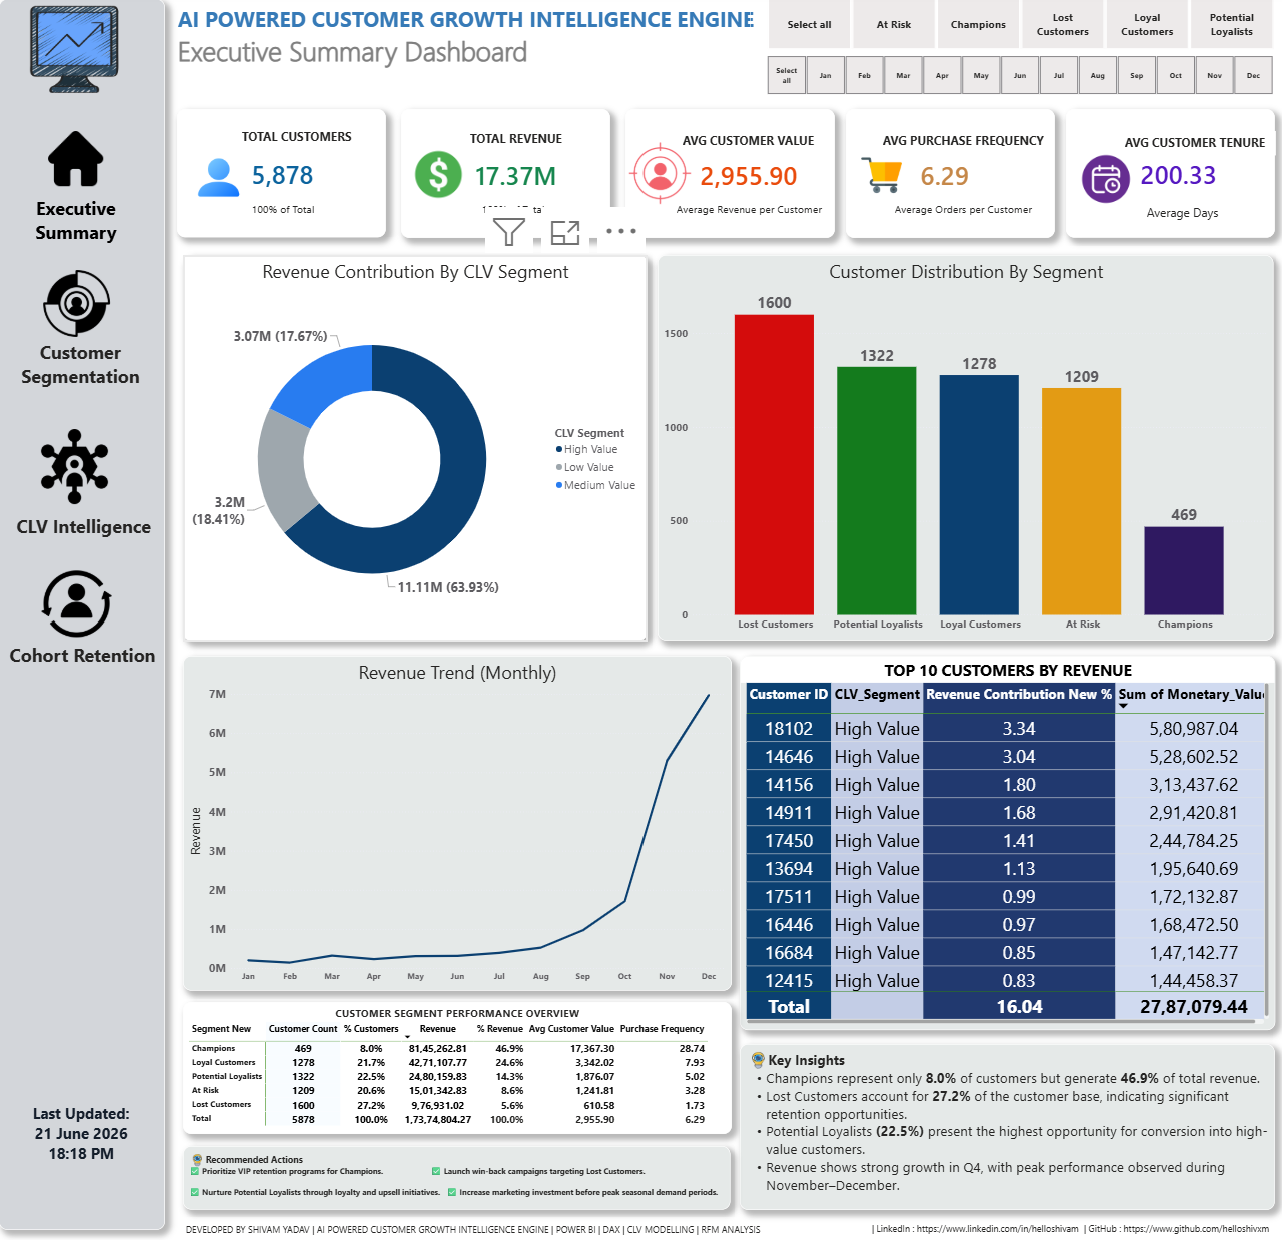

This screenshot's page, from the dashboard's own definition file:
{"tool":"powerbi","page":{"name":"Executive Summary","canvas":[2330,2230],"ordinal":0},"visuals":[{"type":"textbox","box":[12,16,296,2194],"z":0},{"type":"image","box":[88,249.9,116.2,98.6],"z":1000},{"type":"textbox","box":[49.3,360.6,195.8,100],"z":2000},{"type":"image","box":[73.9,496.3,147.8,123.2],"z":3000},{"type":"textbox","box":[40,616.7,233.3,116.7],"z":4000},{"type":"image","box":[73.9,781.4,140.8,133.8],"z":5000},{"type":"textbox","box":[30,926.7,266.7,73.3],"z":6000},{"type":"image","box":[81,1027.8,133.8,130.2],"z":7000},{"type":"textbox","box":[20,1156.7,276.7,70],"z":8000},{"type":"textbox","box":[22.2,1977.8,271.7,122.2],"z":13000},{"type":"textbox","box":[326.4,17,1037.7,154.7],"z":14000},{"type":"cardVisual","fields":{"Data":["cohort_analysis.Total Customers"]},"box":[327.3,210.9,372.7,229.1],"z":15000},{"type":"cardVisual","fields":{"Data":["cohort_analysis.Total Revenue"]},"box":[727.5,210,372.5,230],"z":16000},{"type":"cardVisual","fields":{"Data":["cohort_analysis.Average Customer Value"]},"box":[1127.5,210,372.5,230],"z":17000},{"type":"cardVisual","fields":{"Data":["cohort_analysis.Average Purchase Frequency"]},"box":[1520,210,372.5,230],"z":18000},{"type":"cardVisual","fields":{"Data":["cohort_analysis.Average Customer Tenure"]},"box":[1913.8,212.1,372.4,229.3],"z":19000},{"type":"textbox","box":[440,240,234,52],"z":20000},{"type":"textbox","box":[846.4,241.1,201.8,41.1],"z":21000},{"type":"textbox","box":[1225,246.4,248.2,39.3],"z":22000},{"type":"textbox","box":[1582.1,246.4,298.2,41.1],"z":23000},{"type":"textbox","box":[2012.7,249.1,274.5,43.6],"z":24000},{"type":"textbox","box":[457.8,371.1,126.5,39.8],"z":25000},{"type":"textbox","box":[866.3,371.1,133.7,38.6],"z":26000},{"type":"textbox","box":[1212.1,372.4,275.9,39.7],"z":27000},{"type":"textbox","box":[1602.6,372.7,255.8,42.9],"z":28000},{"type":"textbox","box":[2050,375.9,141.4,39.7],"z":29000},{"type":"image","box":[362.5,287.5,77.5,87.5],"z":30000},{"type":"image","box":[742.5,275,105,105],"z":31000},{"type":"image","box":[1127.5,267.5,122.5,115],"z":32000},{"type":"image","box":[1530,292.5,105,72.5],"z":33000},{"type":"image","box":[1938.6,288.6,93.2,93.2],"z":34000},{"type":"donutChart","title":"Revenue Contribution  By CLV Segment","fields":{"Category":["customer_clv_ml_v2.CLV_Segment"],"Y":["cohort_analysis.Total Revenue"]},"box":[337.9,471.7,827.2,686.4],"z":35000},{"type":"clusteredColumnChart","title":"Customer Distribution By Segment","fields":{"Category":["customer_segments.Segment New"],"Y":["cohort_analysis.Customer Count"]},"box":[1186.2,471.7,1098.2,686.4],"z":36000},{"type":"lineChart","title":"Revenue Trend (Monthly)","fields":{"Y":["cohort_analysis.Monthly Revenue"],"Category":["customer_clv_ml_v2.Month Short"]},"box":[338.7,1183.9,977.4,596.8],"z":37000},{"type":"tableEx","title":"TOP 10 CUSTOMERS BY REVENUE","fields":{"Values":["customer_clv_ml_v2.Customer ID","customer_clv_ml_v2.CLV_Segment","cohort_analysis.Revenue Contribution New %","Sum(customer_clv_ml_v2.Monetary_Value)"]},"box":[1332.5,1185,955,667.5],"z":38000},{"type":"pivotTable","title":"CUSTOMER SEGMENT PERFORMANCE OVERVIEW","fields":{"Values":["cohort_analysis.Customer Count","cohort_analysis.% Customers","cohort_analysis.Revenue","cohort_analysis.% Revenue","cohort_analysis.Avg Customer Value","cohort_analysis.Purchase Frequency"],"Rows":["customer_segments.Segment New"]},"box":[338.7,1803.2,977.4,235.5],"z":39000},{"type":"textbox","box":[1332,1876,954,296],"z":40000},{"type":"image","box":[1349.1,1886.4,30,37.3],"z":41000},{"type":"textbox","box":[338.3,2060,975,113.3],"z":42000},{"type":"image","box":[348.9,2072.2,30,22.2],"z":43000},{"type":"textbox","box":[339.7,2191.4,1037.9,34.5],"z":44000},{"type":"slicer","fields":{"Values":["customer_segments.Segment New"]},"box":[1348.3,0,963.8,117.2],"z":45000},{"type":"slicer","fields":{"Values":["customer_clv_ml_v2.Month Short"]},"box":[1350,103.4,962.1,93.1],"z":46000},{"type":"actionButton","title":"| LinkedIn : https://www.linkedin.com/in/helloshivam","box":[1567.3,2194.9,371.4,25.5],"z":47000},{"type":"actionButton","title":"| GitHub : https://www.github.com/helloshivxm","box":[1943.9,2194.9,340.8,25.5],"z":48000},{"type":"image","box":[37.7,24.5,211.3,158.5],"z":49000}]}

Visuals, with their boxes in screenshot pixels (x1, y1, x2, y2), scaled from the page's 2330x2230 canvas onto the 1282x1240 screenshot:
textbox: (7, 9, 169, 1229)
image: (48, 139, 112, 194)
textbox: (27, 201, 135, 256)
image: (41, 276, 122, 344)
textbox: (22, 343, 150, 408)
image: (41, 435, 118, 509)
textbox: (17, 515, 163, 556)
image: (45, 572, 118, 644)
textbox: (11, 643, 163, 682)
textbox: (12, 1100, 162, 1168)
textbox: (180, 9, 751, 95)
cardVisual - cohort_analysis.Total Customers: (180, 117, 385, 245)
cardVisual - cohort_analysis.Total Revenue: (400, 117, 605, 245)
cardVisual - cohort_analysis.Average Customer Value: (620, 117, 825, 245)
cardVisual - cohort_analysis.Average Purchase Frequency: (836, 117, 1041, 245)
cardVisual - cohort_analysis.Average Customer Tenure: (1053, 118, 1258, 245)
textbox: (242, 133, 371, 162)
textbox: (466, 134, 577, 157)
textbox: (674, 137, 811, 159)
textbox: (870, 137, 1035, 160)
textbox: (1107, 139, 1258, 163)
textbox: (252, 206, 321, 228)
textbox: (477, 206, 550, 228)
textbox: (667, 207, 819, 229)
textbox: (882, 207, 1023, 231)
textbox: (1128, 209, 1206, 231)
image: (199, 160, 242, 209)
image: (409, 153, 466, 211)
image: (620, 149, 688, 213)
image: (842, 163, 900, 203)
image: (1067, 160, 1118, 212)
"Revenue Contribution  By CLV Segment" donutChart: (186, 262, 641, 644)
"Customer Distribution By Segment" clusteredColumnChart: (653, 262, 1257, 644)
"Revenue Trend (Monthly)" lineChart: (186, 658, 724, 990)
"TOP 10 CUSTOMERS BY REVENUE" tableEx: (733, 659, 1259, 1030)
"CUSTOMER SEGMENT PERFORMANCE OVERVIEW" pivotTable: (186, 1003, 724, 1134)
textbox: (733, 1043, 1258, 1208)
image: (742, 1049, 759, 1070)
textbox: (186, 1145, 723, 1208)
image: (192, 1152, 208, 1165)
textbox: (187, 1219, 758, 1238)
slicer - customer_segments.Segment New: (742, 0, 1272, 65)
slicer - customer_clv_ml_v2.Month Short: (743, 57, 1272, 109)
"| LinkedIn : https://www.linkedin.com/in/helloshivam" actionButton: (862, 1220, 1067, 1235)
"| GitHub : https://www.github.com/helloshivxm" actionButton: (1070, 1220, 1257, 1235)
image: (21, 14, 137, 102)
